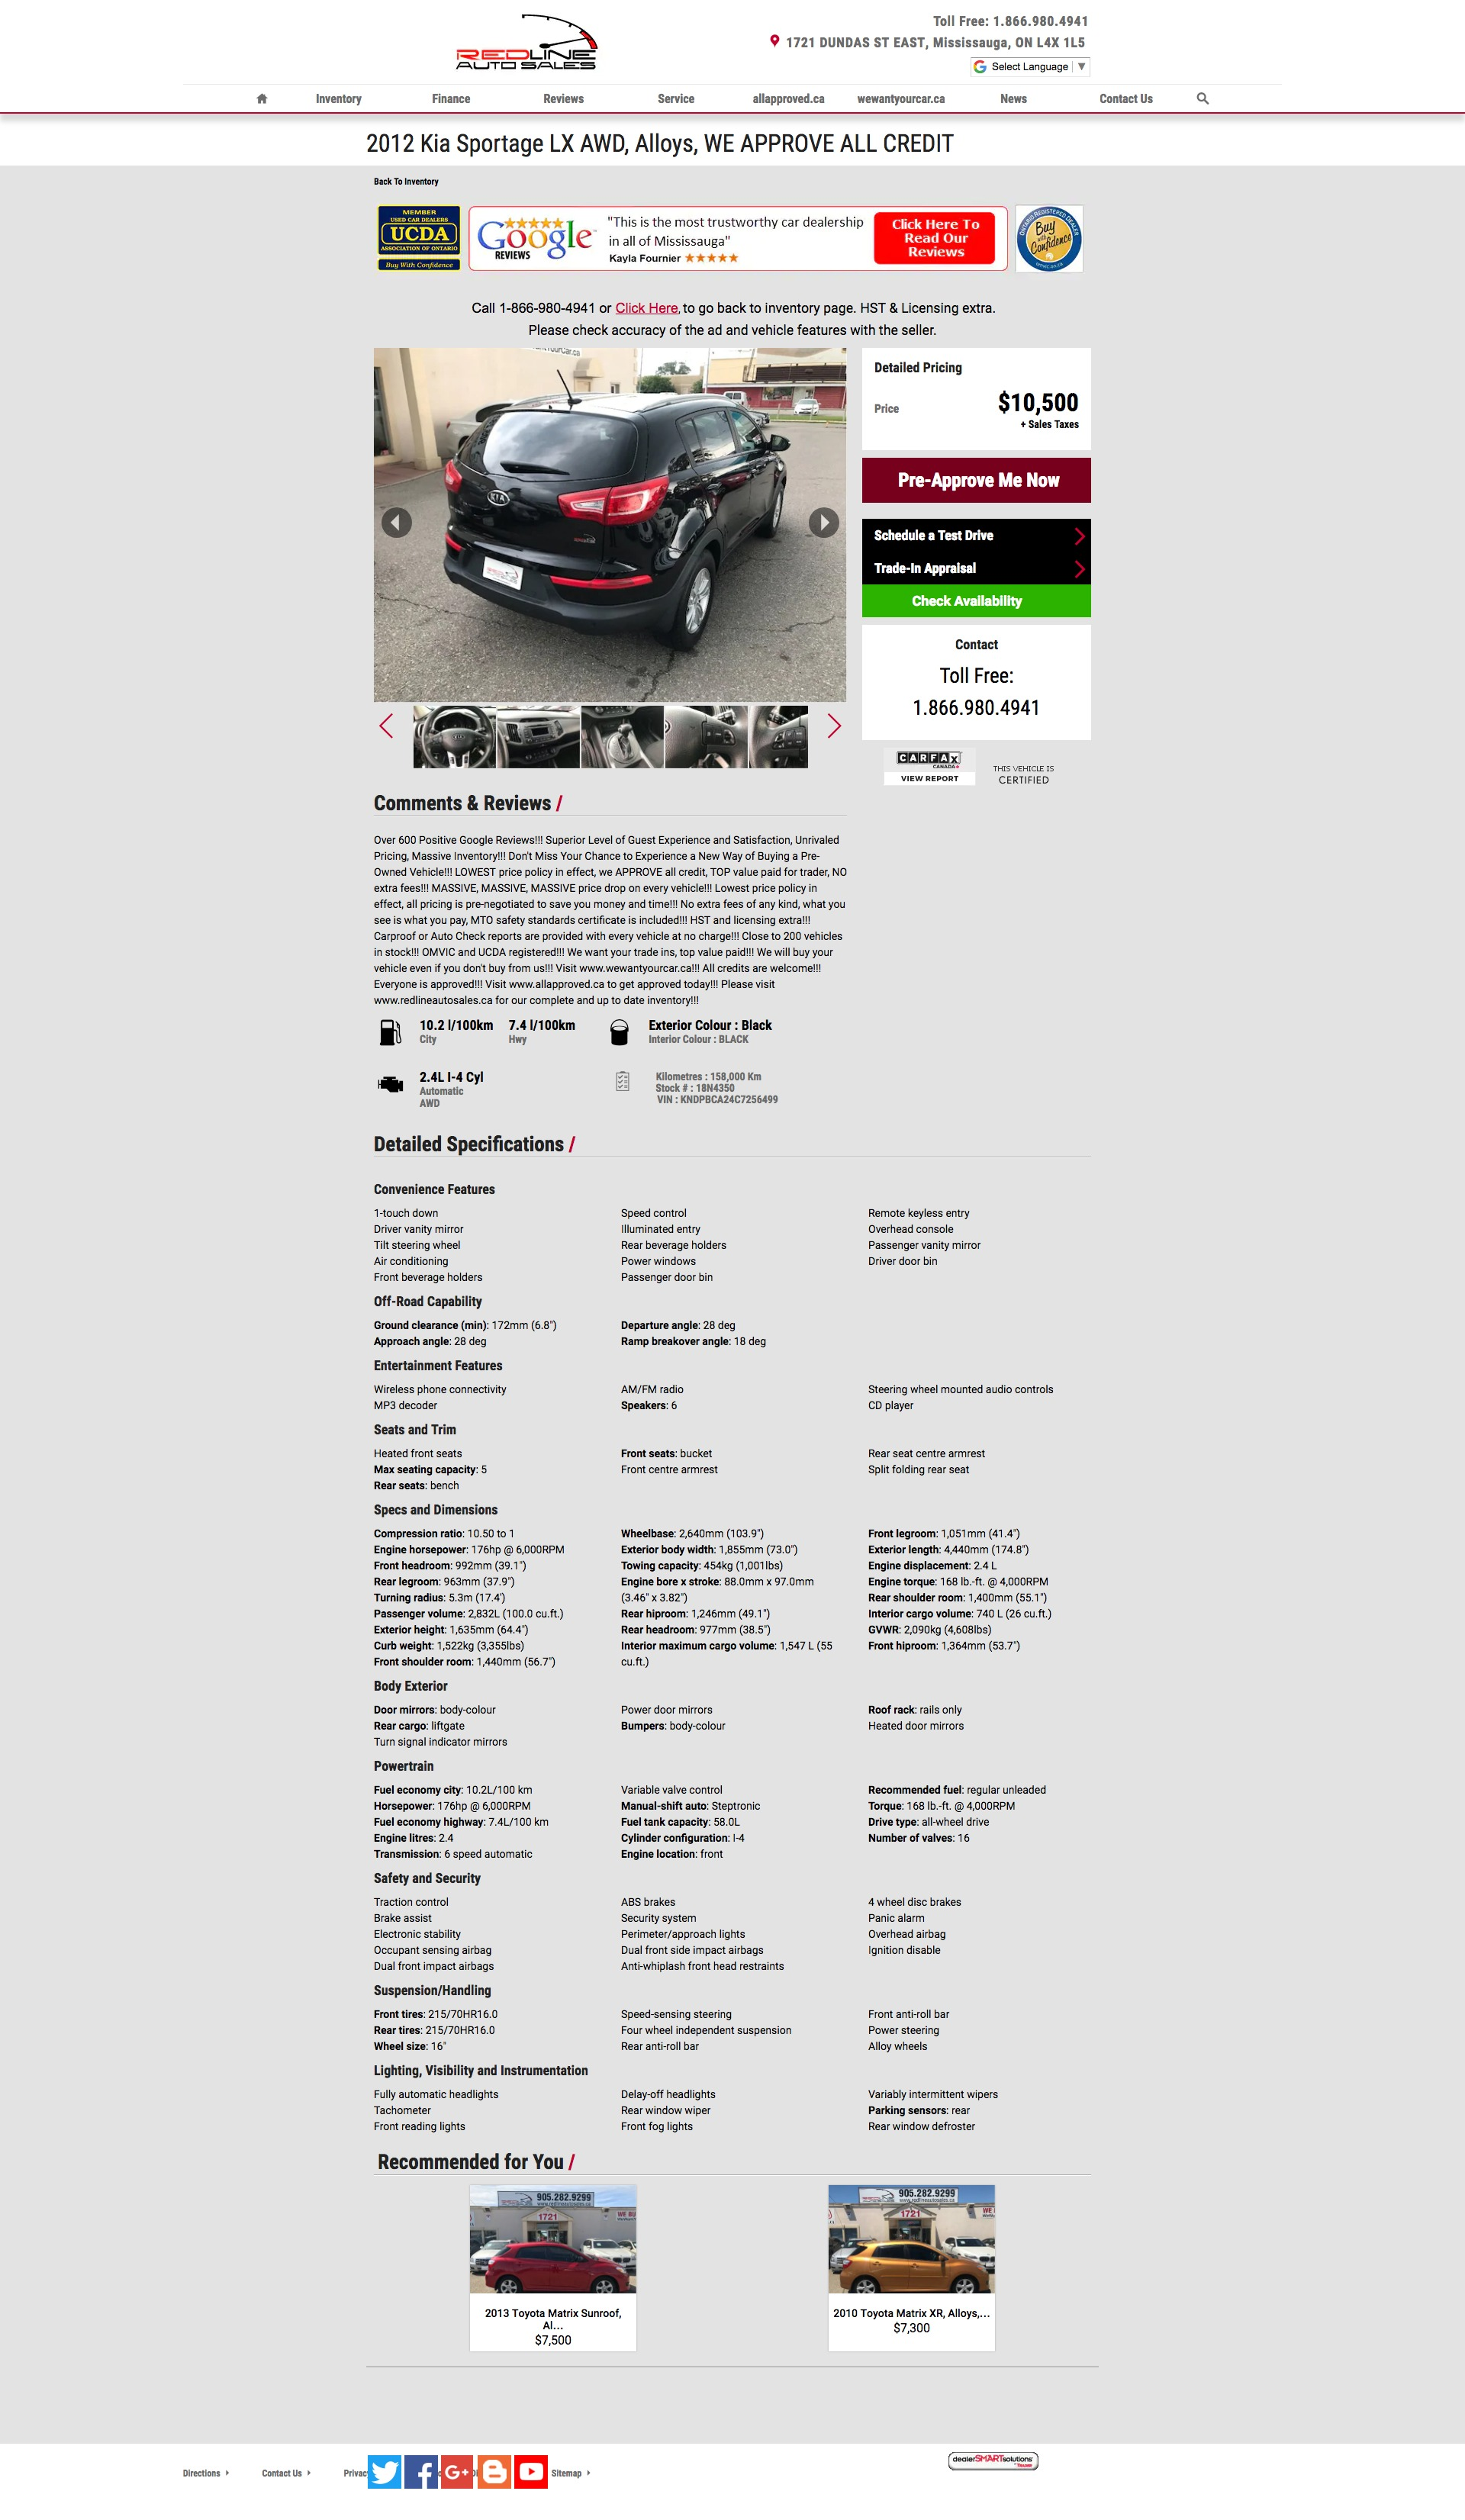car: (825, 712, 844, 741)
